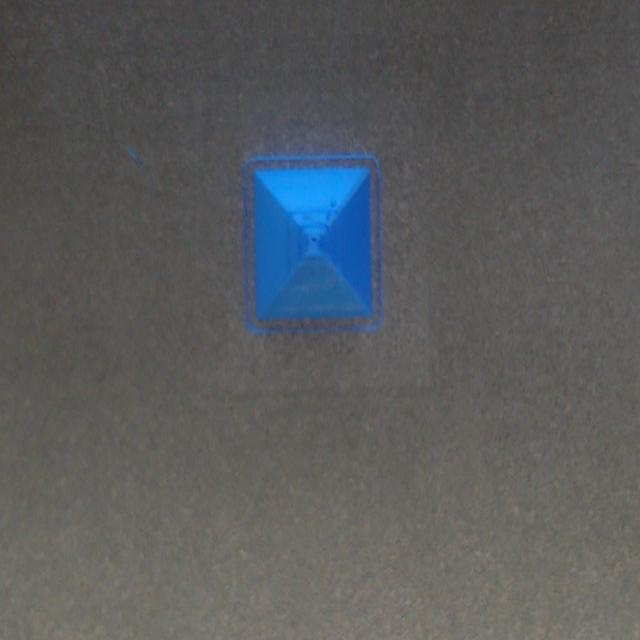mistake: (292, 208, 336, 267)
